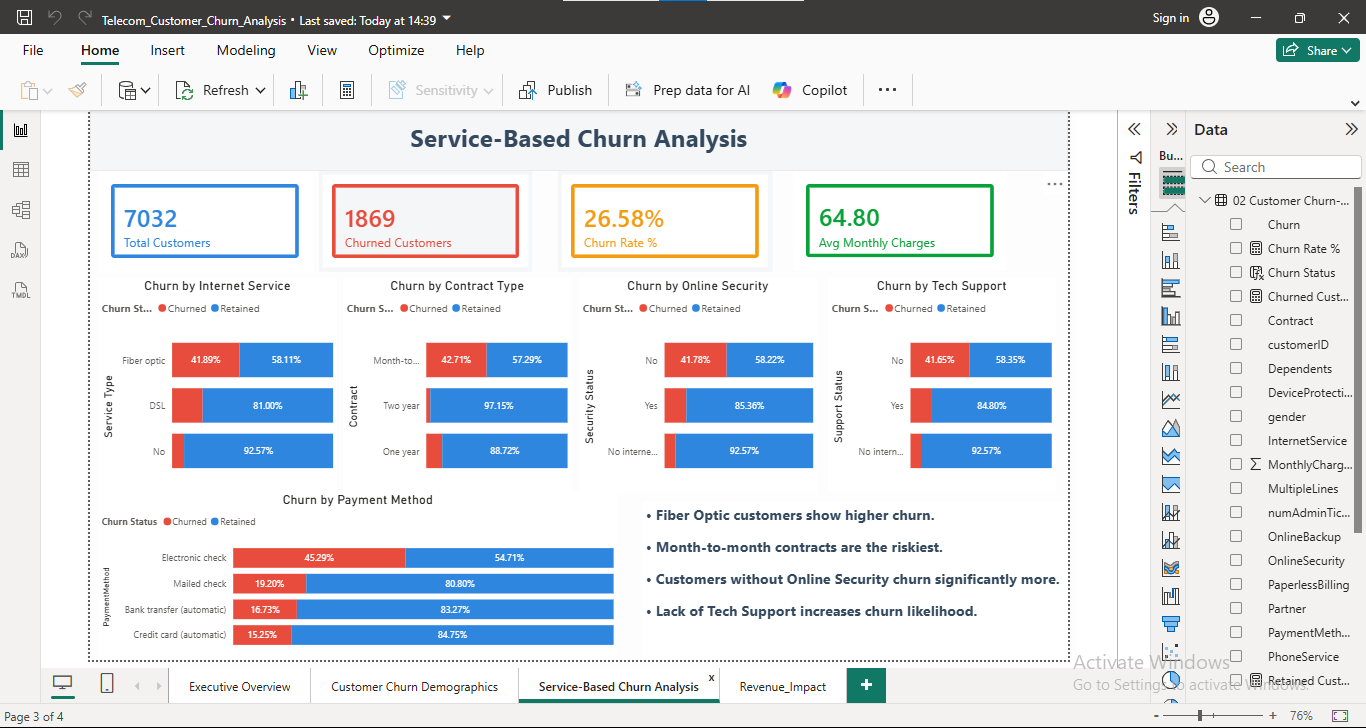

Layout of this report page (visuals, bound fields, positions):
{"tool":"powerbi","page":{"name":"Service-Based Churn Analysis","canvas":[1280,720],"ordinal":2},"visuals":[{"type":"cardVisual","fields":{"Data":["WA_Fn-UseC_-Telco-Customer-Churn.Total Customers"]},"box":[9.9,79.4,280.5,131.6],"z":0},{"type":"cardVisual","fields":{"Data":["WA_Fn-UseC_-Telco-Customer-Churn.Churn Rate %"]},"box":[613.2,79.4,280.5,131.6],"z":1000},{"type":"cardVisual","fields":{"Data":["Parameter.Avg Monthly Charges"]},"box":[919.6,79.8,280.4,130.8],"z":2000},{"type":"cardVisual","fields":{"Data":["WA_Fn-UseC_-Telco-Customer-Churn.Churned Customers"]},"box":[300.4,79.4,279.3,131.6],"z":3000},{"type":"hundredPercentStackedBarChart","title":"Churn by Internet Service","fields":{"Category":["WA_Fn-UseC_-Telco-Customer-Churn.InternetService"],"Series":["WA_Fn-UseC_-Telco-Customer-Churn.Churn Status"],"Y":["CountNonNull(WA_Fn-UseC_-Telco-Customer-Churn.customerID)"]},"box":[9.9,219.7,312.8,280.5],"z":4000},{"type":"hundredPercentStackedBarChart","title":"Churn by Online Security","fields":{"Category":["WA_Fn-UseC_-Telco-Customer-Churn.OnlineSecurity"],"Series":["WA_Fn-UseC_-Telco-Customer-Churn.Churn Status"],"Y":["CountNonNull(WA_Fn-UseC_-Telco-Customer-Churn.customerID)"]},"box":[640.5,219.7,311.6,280.5],"z":5000},{"type":"hundredPercentStackedBarChart","title":"Churn by Contract Type","fields":{"Category":["WA_Fn-UseC_-Telco-Customer-Churn.Contract"],"Series":["WA_Fn-UseC_-Telco-Customer-Churn.Churn Status"],"Y":["CountNonNull(WA_Fn-UseC_-Telco-Customer-Churn.customerID)"]},"box":[331.4,219.7,299.2,280.5],"z":6000},{"type":"hundredPercentStackedBarChart","title":"Churn by Tech Support","fields":{"Category":["WA_Fn-UseC_-Telco-Customer-Churn.TechSupport"],"Series":["WA_Fn-UseC_-Telco-Customer-Churn.Churn Status"],"Y":["CountNonNull(WA_Fn-UseC_-Telco-Customer-Churn.customerID)"]},"box":[965.7,219.7,297.9,280.5],"z":7000},{"type":"textbox","box":[722.4,511.4,557.3,208.5],"z":8000},{"type":"hundredPercentStackedBarChart","title":"Churn by Payment Method","fields":{"Category":["WA_Fn-UseC_-Telco-Customer-Churn.PaymentMethod"],"Series":["WA_Fn-UseC_-Telco-Customer-Churn.Churn Status"],"Y":["CountNonNull(WA_Fn-UseC_-Telco-Customer-Churn.customerID)"]},"box":[9.9,500.2,680.2,219.7],"z":9000},{"type":"textbox","box":[0,0,1279.8,79.4],"z":10000}]}

Visuals, with their boxes on the page's 1280x720 design canvas (x1, y1, x2, y2). These are canvas units, not pixel positions in the 1366x728 screenshot, which may show the page scaled, cropped or inside an application window:
cardVisual - WA_Fn-UseC_-Telco-Customer-Churn.Total Customers: bbox=(10, 79, 290, 211)
cardVisual - WA_Fn-UseC_-Telco-Customer-Churn.Churn Rate %: bbox=(613, 79, 894, 211)
cardVisual - Parameter.Avg Monthly Charges: bbox=(920, 80, 1200, 211)
cardVisual - WA_Fn-UseC_-Telco-Customer-Churn.Churned Customers: bbox=(300, 79, 580, 211)
"Churn by Internet Service" hundredPercentStackedBarChart: bbox=(10, 220, 323, 500)
"Churn by Online Security" hundredPercentStackedBarChart: bbox=(640, 220, 952, 500)
"Churn by Contract Type" hundredPercentStackedBarChart: bbox=(331, 220, 631, 500)
"Churn by Tech Support" hundredPercentStackedBarChart: bbox=(966, 220, 1264, 500)
textbox: bbox=(722, 511, 1280, 720)
"Churn by Payment Method" hundredPercentStackedBarChart: bbox=(10, 500, 690, 720)
textbox: bbox=(0, 0, 1280, 79)
